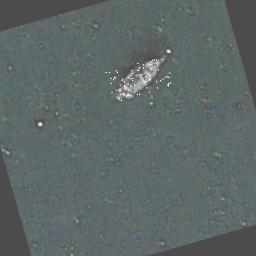boat: (106, 55, 174, 103)
